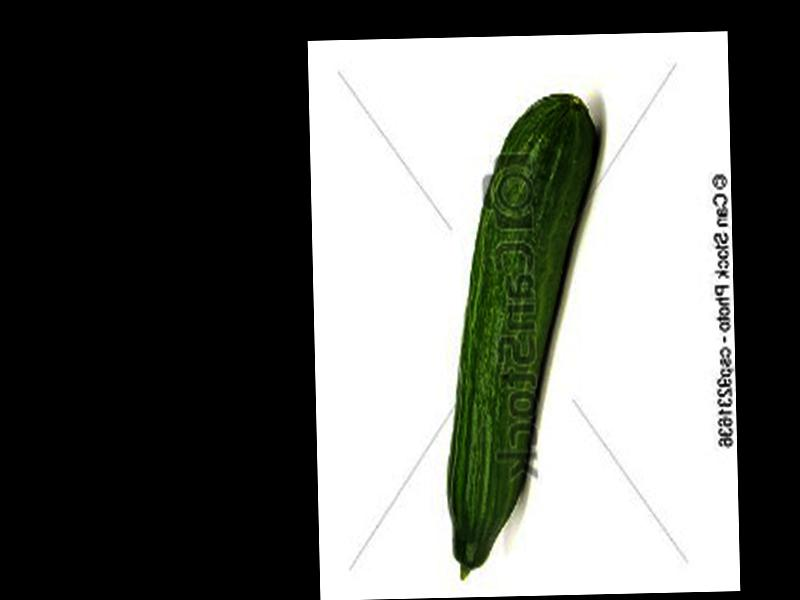Cucumber: (440, 96, 607, 578)
